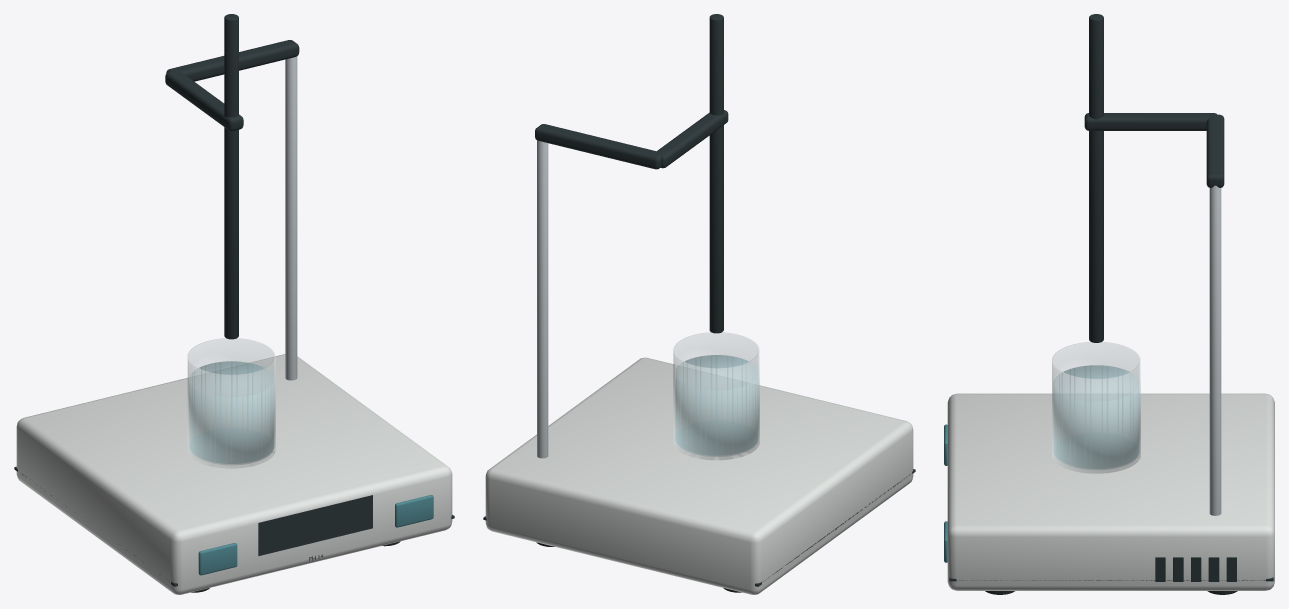
Rendered from preview.glb.
The picture shows the model from 3 angles, left to right: view 1: azimuth 30°, elevation 25°; view 2: azimuth 150°, elevation 25°; view 3: azimuth 270°, elevation 25°; orthographic projection. The views are drawn at different scales.
Parts seen in each view (by area): view 1: Enamel enclosure, Sample vessel, Buffer solution, Electrode stem, Electrode stand, Live LCD surface, Lower seam, Key, Key.001; view 2: Enamel enclosure, Sample vessel, Buffer solution, Electrode stem, Lower seam, Electrode stand; view 3: Enamel enclosure, Sample vessel, Buffer solution, Lower seam, Electrode stem, Electrode stand.
Boxes of the visible parts, <box> form: Enamel enclosure: <box>16,354,452,594</box>; Sample vessel: <box>187,338,275,468</box>; Buffer solution: <box>189,361,273,463</box>; Electrode stem: <box>224,14,238,339</box>; Electrode stand: <box>285,56,297,380</box>; Live LCD surface: <box>258,495,372,556</box>; Lower seam: <box>14,40,454,586</box>; Key: <box>198,543,237,575</box>; Key.001: <box>395,495,433,527</box>; Enamel enclosure: <box>485,357,913,594</box>; Sample vessel: <box>673,332,759,460</box>; Buffer solution: <box>675,355,758,455</box>; Electrode stem: <box>709,14,723,333</box>; Lower seam: <box>483,110,915,586</box>; Electrode stand: <box>537,140,548,458</box>; Enamel enclosure: <box>947,393,1274,590</box>; Sample vessel: <box>1052,342,1140,473</box>; Buffer solution: <box>1053,365,1139,468</box>; Lower seam: <box>949,113,1273,581</box>; Electrode stem: <box>1089,14,1103,342</box>; Electrode stand: <box>1209,185,1221,515</box>.
Bounding box in the file's own units: 0.2204 × 0.385 × 0.2225.
